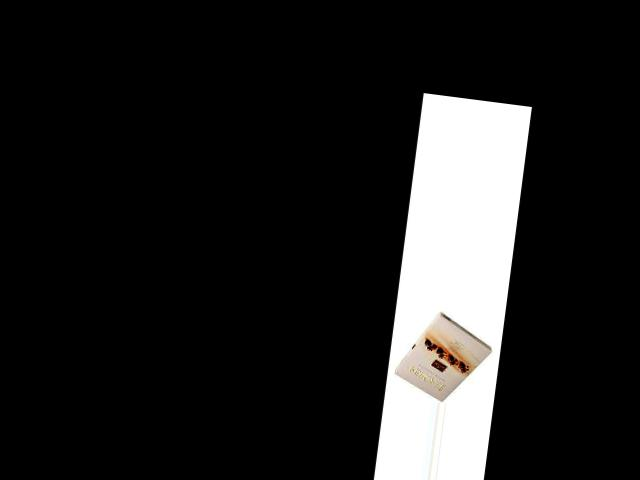chocolate: (391, 305, 503, 406)
